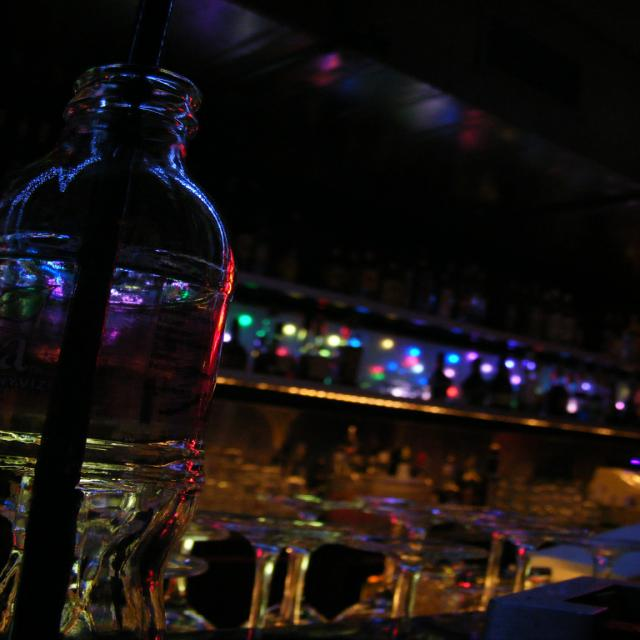Bottle: (0, 58, 232, 640)
Cup: (415, 498, 526, 640), (265, 469, 379, 604)
